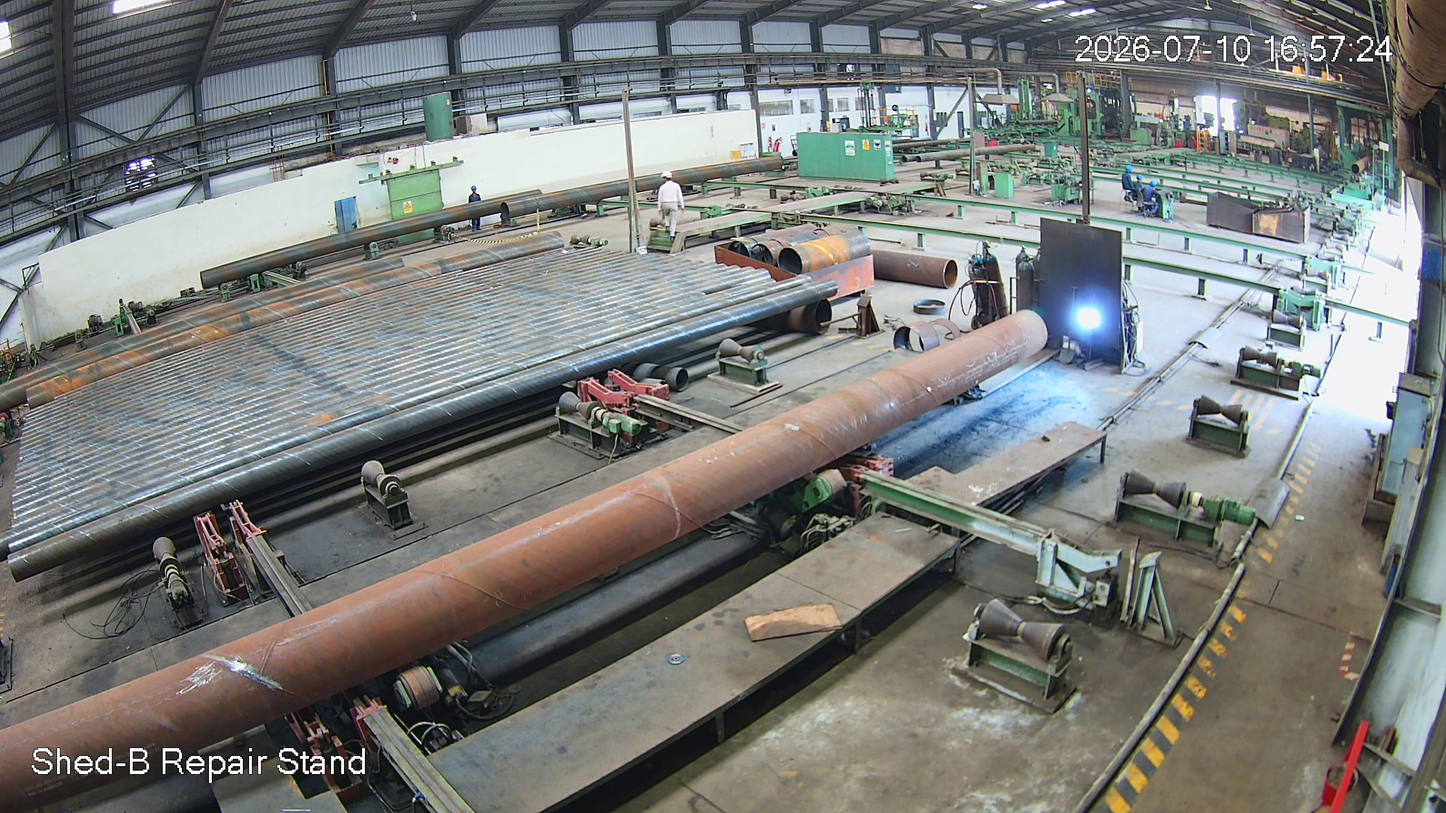Helmet: (660, 169, 684, 192)
Person: (657, 171, 686, 242)
